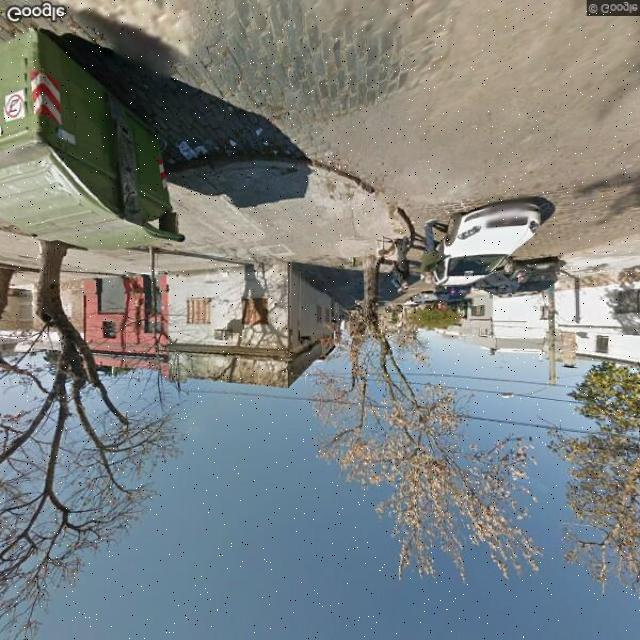garbage container: (2, 27, 190, 262)
